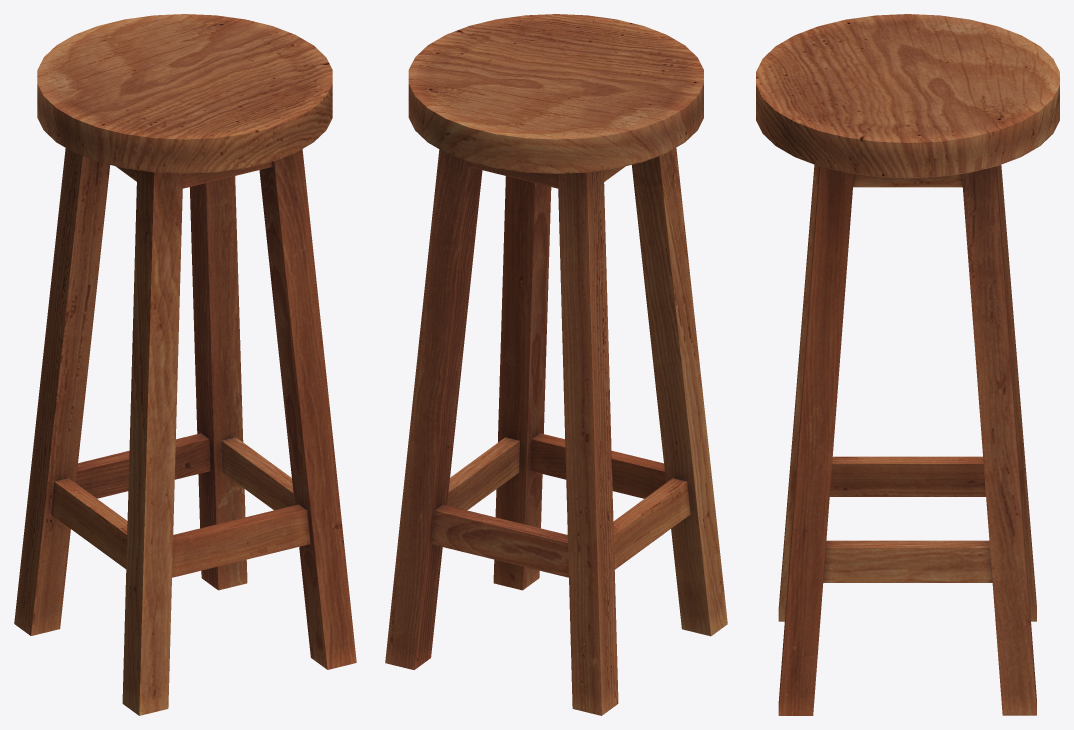
The picture shows the model from 3 angles, left to right: view 1: azimuth 30°, elevation 25°; view 2: azimuth 150°, elevation 25°; view 3: azimuth 270°, elevation 25°; orthographic projection. The views are drawn at different scales.
Visible parts, largest first — view 1: bench-wood_lowpoly; view 2: bench-wood_lowpoly; view 3: bench-wood_lowpoly.
Part boxes in pixels (x1=…): bench-wood_lowpoly: x1=14, y1=14, x2=356, y2=715; bench-wood_lowpoly: x1=385, y1=14, x2=727, y2=715; bench-wood_lowpoly: x1=756, y1=14, x2=1059, y2=715.
Bounding box in the file's own units: 13.94 × 29.34 × 13.86.
Materials: 1 (1 with a texture image).
